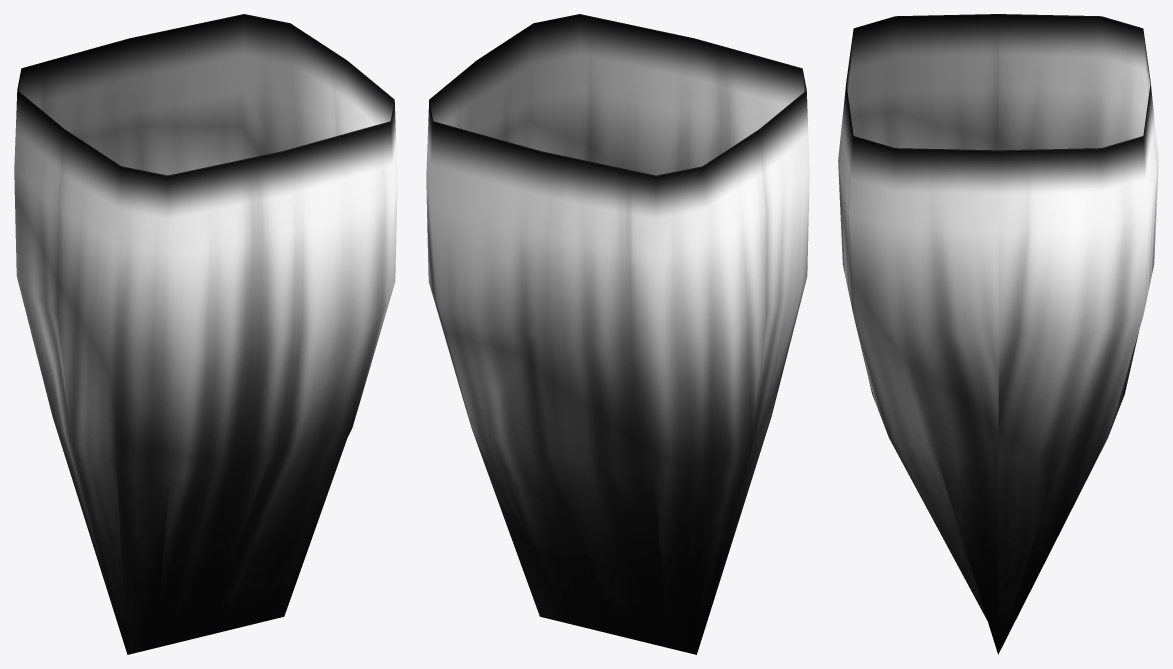
File: SM_Flame_Mesh_Square.fbx
3 views of the same model, side by side, from view 1: azimuth 30°, elevation 25°; view 2: azimuth 150°, elevation 25°; view 3: azimuth 270°, elevation 25° (orthographic).
Visible parts, largest first — view 1: Flame_Mesh_Square; view 2: Flame_Mesh_Square; view 3: Flame_Mesh_Square.
Boxes of the visible parts, x1,y1,x2,y2 form: Flame_Mesh_Square: (14, 14, 397, 654); Flame_Mesh_Square: (426, 14, 809, 654); Flame_Mesh_Square: (838, 14, 1158, 654).
Bounding box in the file's own units: 13.8 × 24.03 × 13.06.
